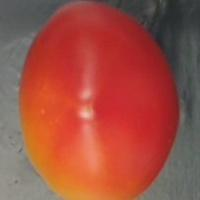unripe: (13, 0, 186, 200)
